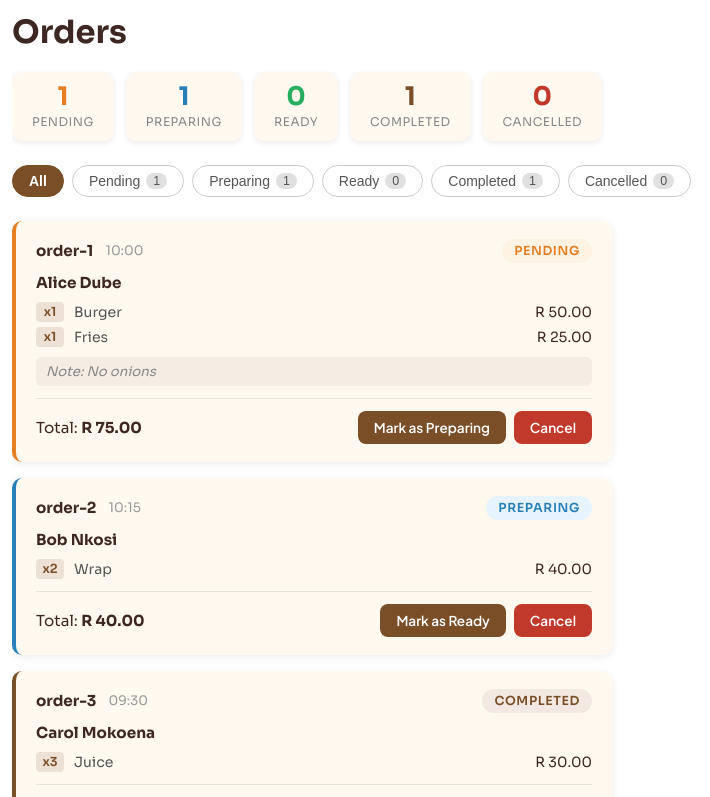
it: Orders – filtering › filters to only preparing orders when Preparing tab is clicked
Expected: the text "Alice Dube" is shown, [36, 273, 121, 292]
Click the button "Preparing 1": [253, 181] box [192, 165, 314, 197]
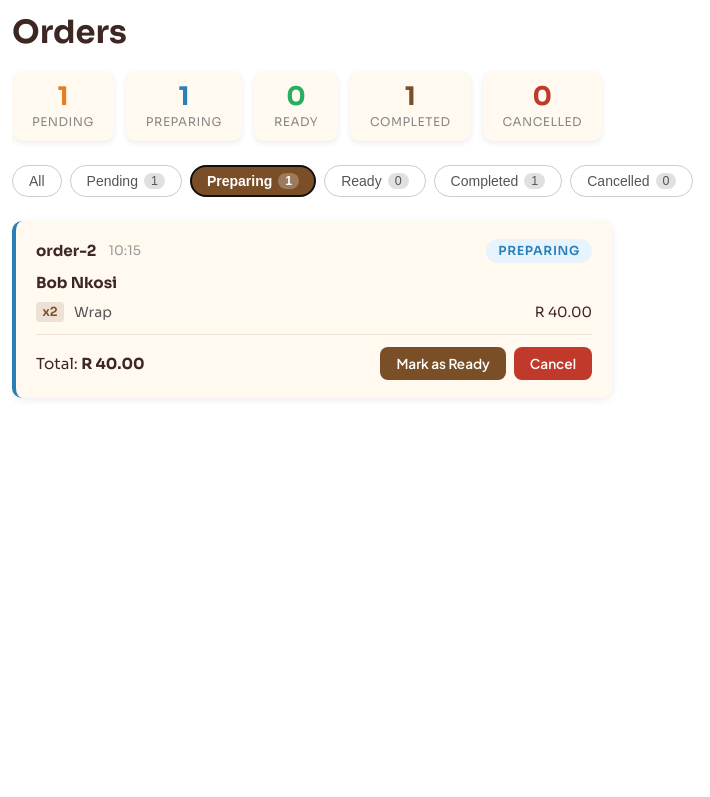
Expected: the text "Bob Nkosi" is shown, [36, 273, 117, 292]
Expected: the text "Alice Dube" is gone
